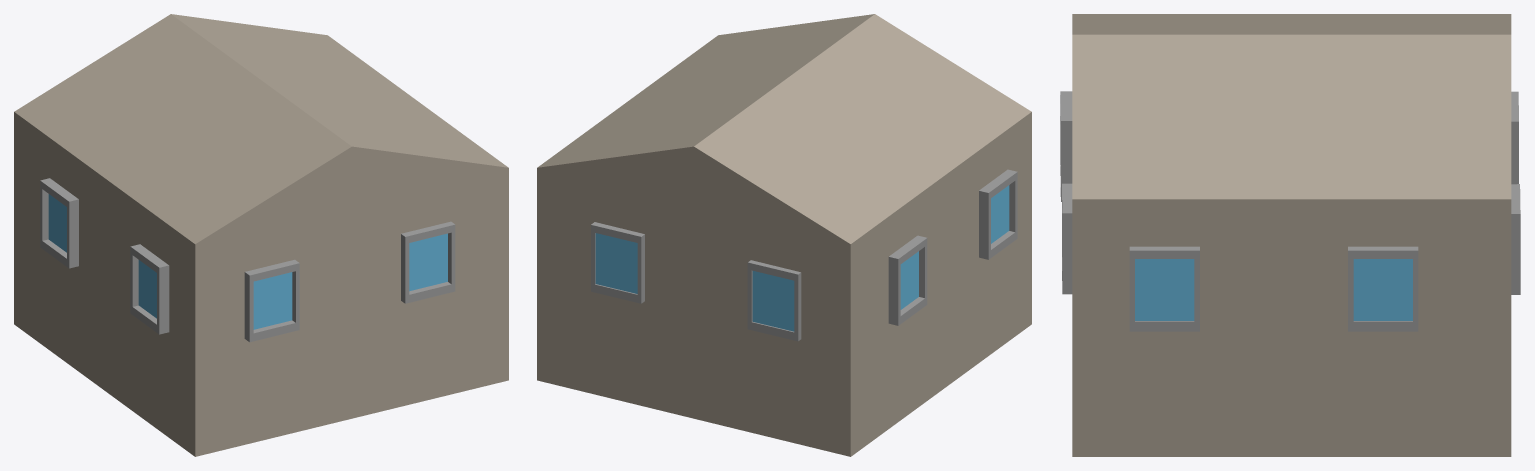
File: House1.fbx
The picture shows the model from 3 angles, left to right: view 1: azimuth 30°, elevation 25°; view 2: azimuth 150°, elevation 25°; view 3: azimuth 270°, elevation 25°; orthographic projection. The views are drawn at different scales.
Parts seen in each view (by area): view 1: Cube, Cube.005, Cube.015, Cube.003, Cube.001, Cube.006, Cube.004, Cube.016, Cube.002; view 2: Cube, Cube.008, Cube.010, Cube.001, Cube.015, Cube.009, Cube.007, Cube.016, Cube.002; view 3: Cube, Cube.012, Cube.014, Cube.011, Cube.013, Cube.005, Cube.003, Cube.007, Cube.009.
Part boxes in pixels (x1,y1,x2,y2): Cube: (14,14,508,456); Cube.005: (244,259,299,342); Cube.015: (130,244,169,334); Cube.003: (401,221,455,303); Cube.001: (40,178,78,268); Cube.006: (253,272,292,329); Cube.004: (409,233,447,291); Cube.016: (138,260,156,318); Cube.002: (48,194,66,252); Cube: (537,14,1031,456); Cube.008: (595,233,637,293); Cube.010: (752,271,794,331); Cube.001: (888,235,927,325); Cube.015: (979,169,1017,259); Cube.009: (747,260,801,341); Cube.007: (591,222,644,303); Cube.016: (991,185,1009,243); Cube.002: (900,251,918,309); Cube: (1072,14,1511,456); Cube.012: (1135,259,1194,320); Cube.014: (1353,259,1412,320); Cube.011: (1129,246,1199,331); Cube.013: (1348,246,1418,331); Cube.005: (1060,91,1072,201); Cube.003: (1062,183,1072,294); Cube.007: (1511,184,1520,294); Cube.009: (1511,91,1518,184).
Size of the model in its own units: 211 by 166 by 210.
